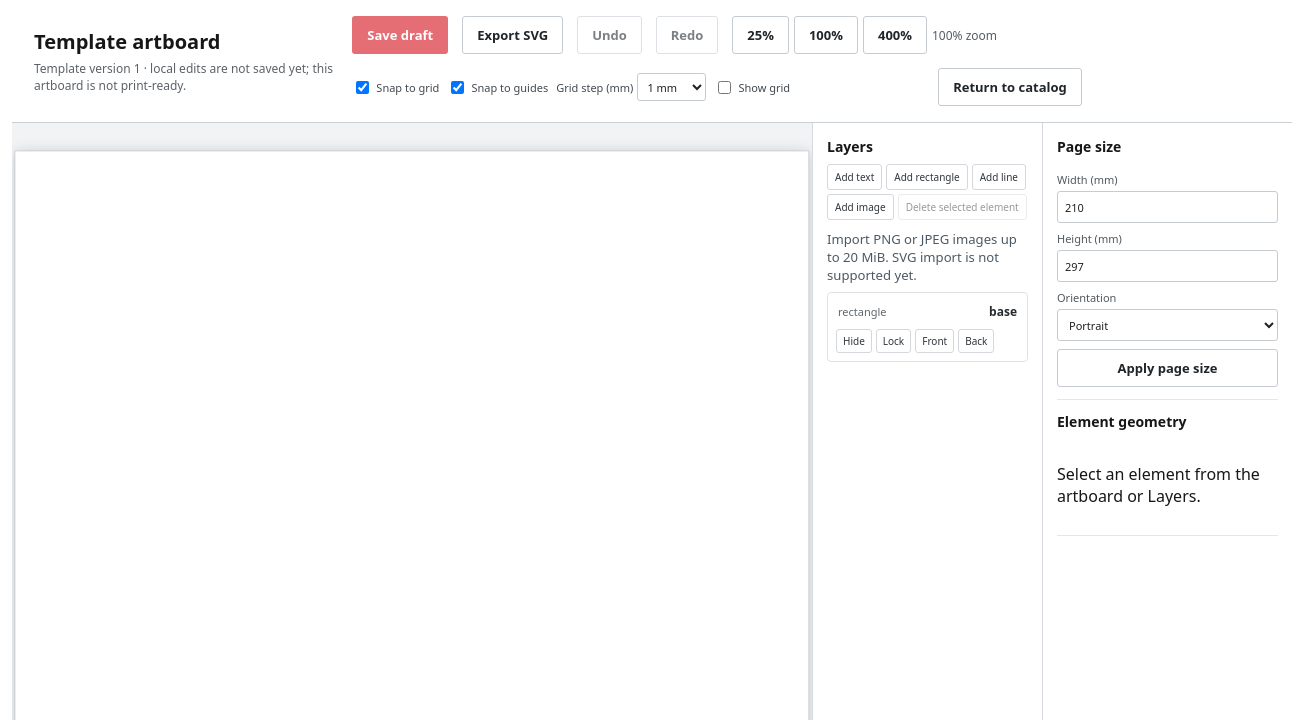
Test: ArtboardWorkspace element authoring › exports the current edited document and reports the selected destination
Click the button "Export SVG": click(513, 35) [462,16,563,54]
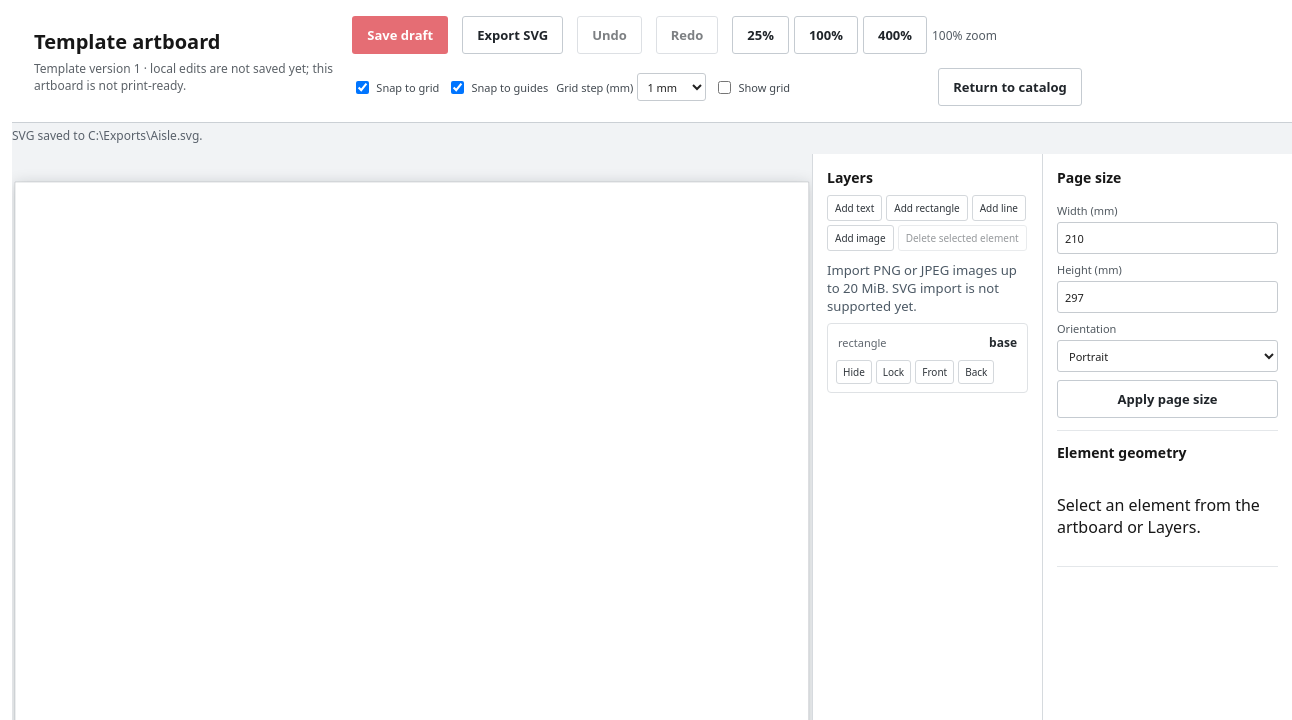
expect the text "SVG saved to C:\\Exports\\Aisle.svg." is shown: met, box [12,127,202,144]
